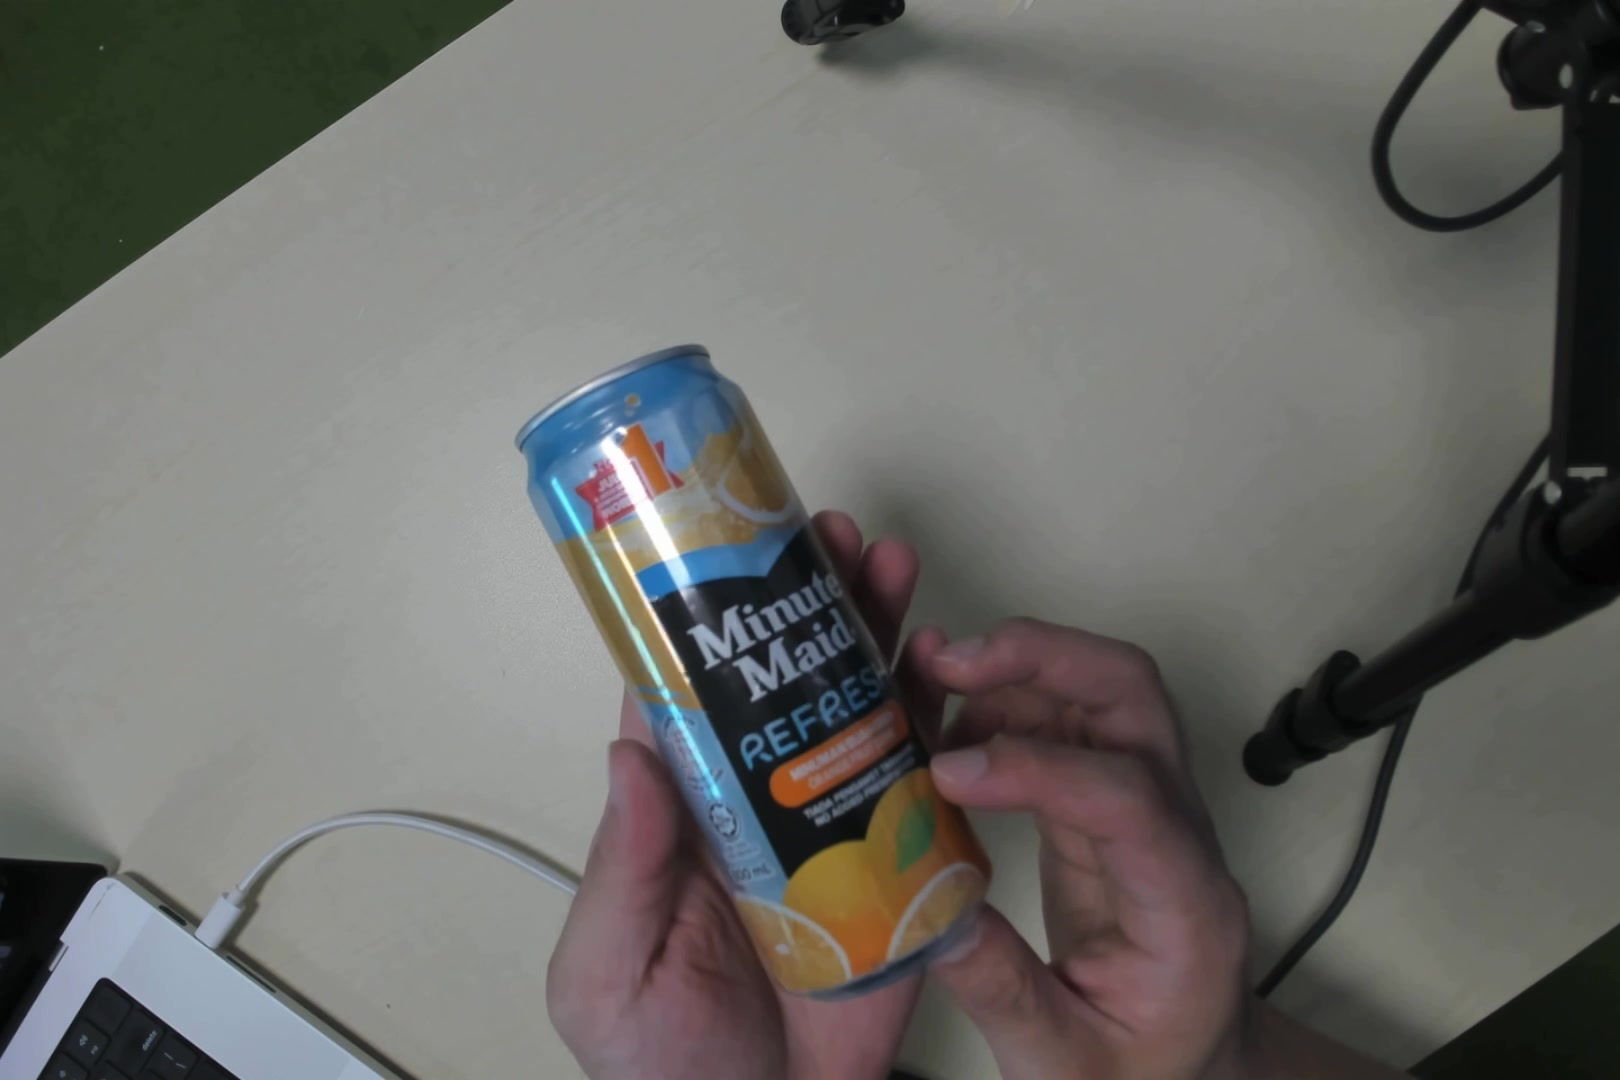SoftDrinks_200-299g_Halal_Healthy: (554, 345, 974, 965)
